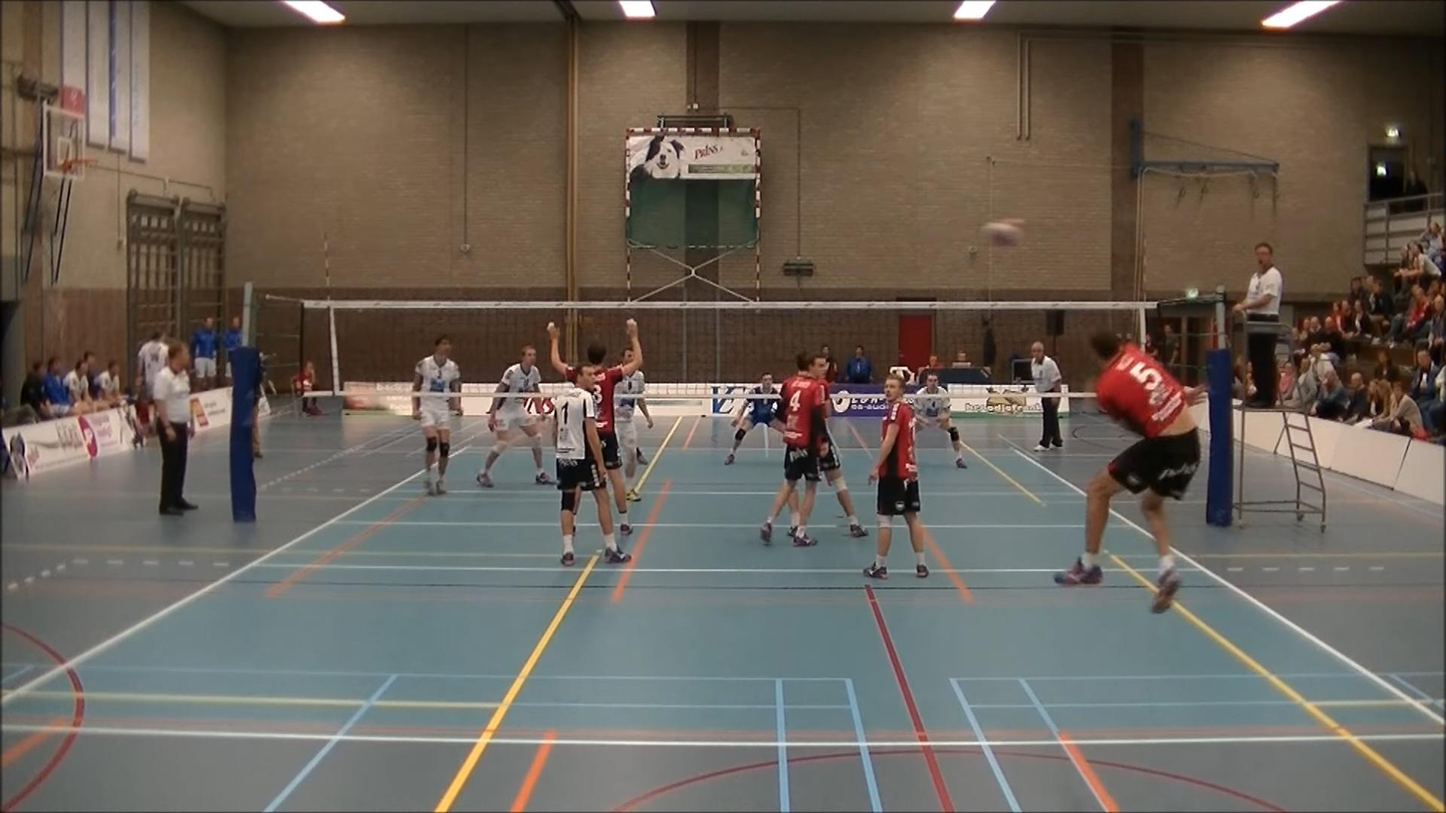battuta: (1051, 326, 1215, 614)
